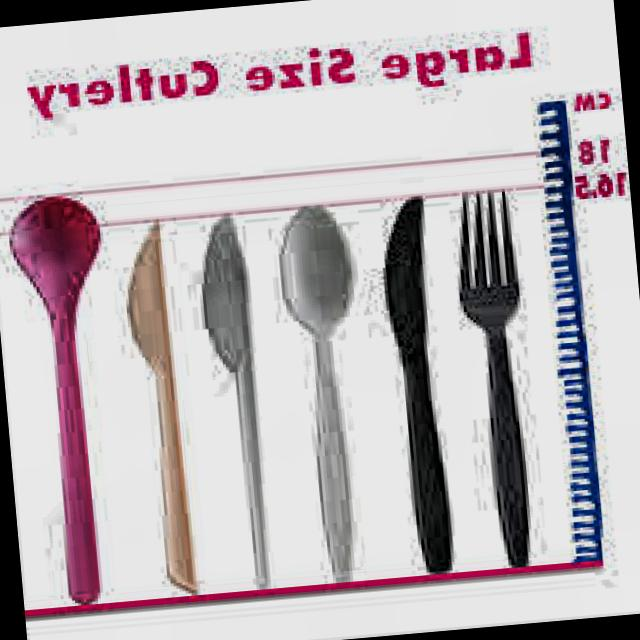plastic utensil: (10, 197, 98, 598), (282, 207, 353, 579), (460, 193, 528, 566), (385, 197, 451, 571), (129, 223, 196, 591), (205, 218, 269, 586)
